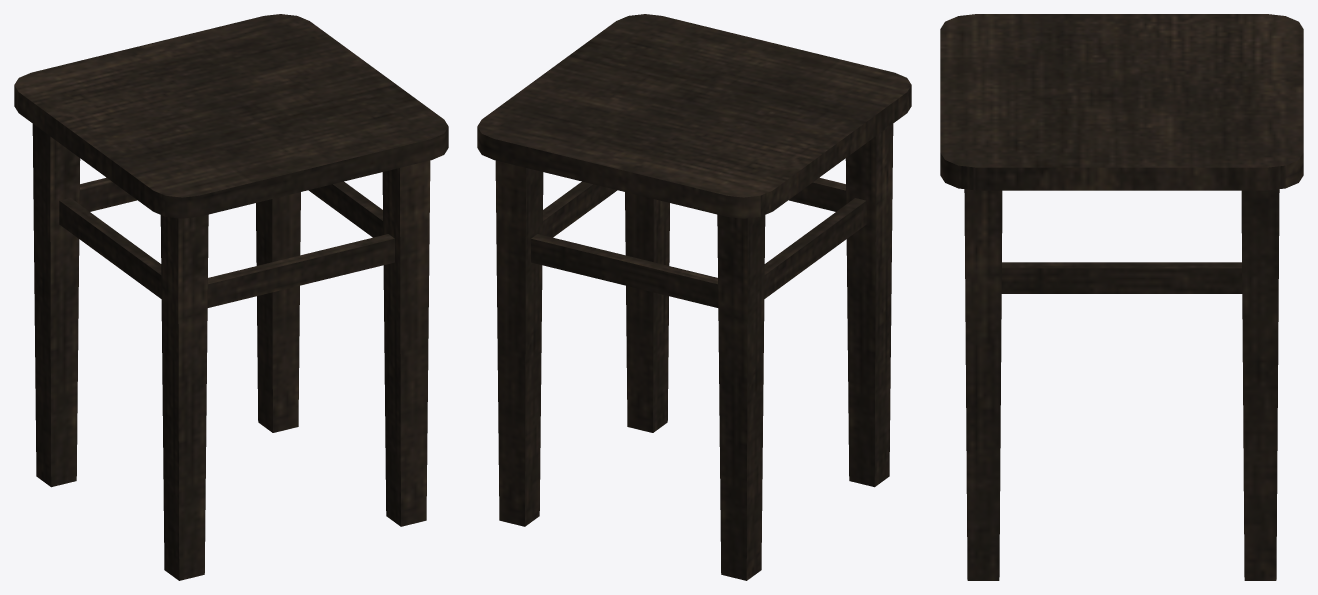
File: chair_mp_2_2.dae
The picture shows the model from 3 angles, left to right: view 1: azimuth 30°, elevation 25°; view 2: azimuth 150°, elevation 25°; view 3: azimuth 270°, elevation 25°; orthographic projection. The views are drawn at different scales.
Parts seen in each view (by area): view 1: chair_mp_2_2; view 2: chair_mp_2_2; view 3: chair_mp_2_2.
Part boxes in pixels (x1,y1,x2,y2): chair_mp_2_2: [14, 14, 448, 580]; chair_mp_2_2: [477, 14, 911, 580]; chair_mp_2_2: [940, 14, 1303, 580].
Bounding box in the file's own units: 0.4607 × 0.4607 × 0.594.
1 material, 1 textured.
